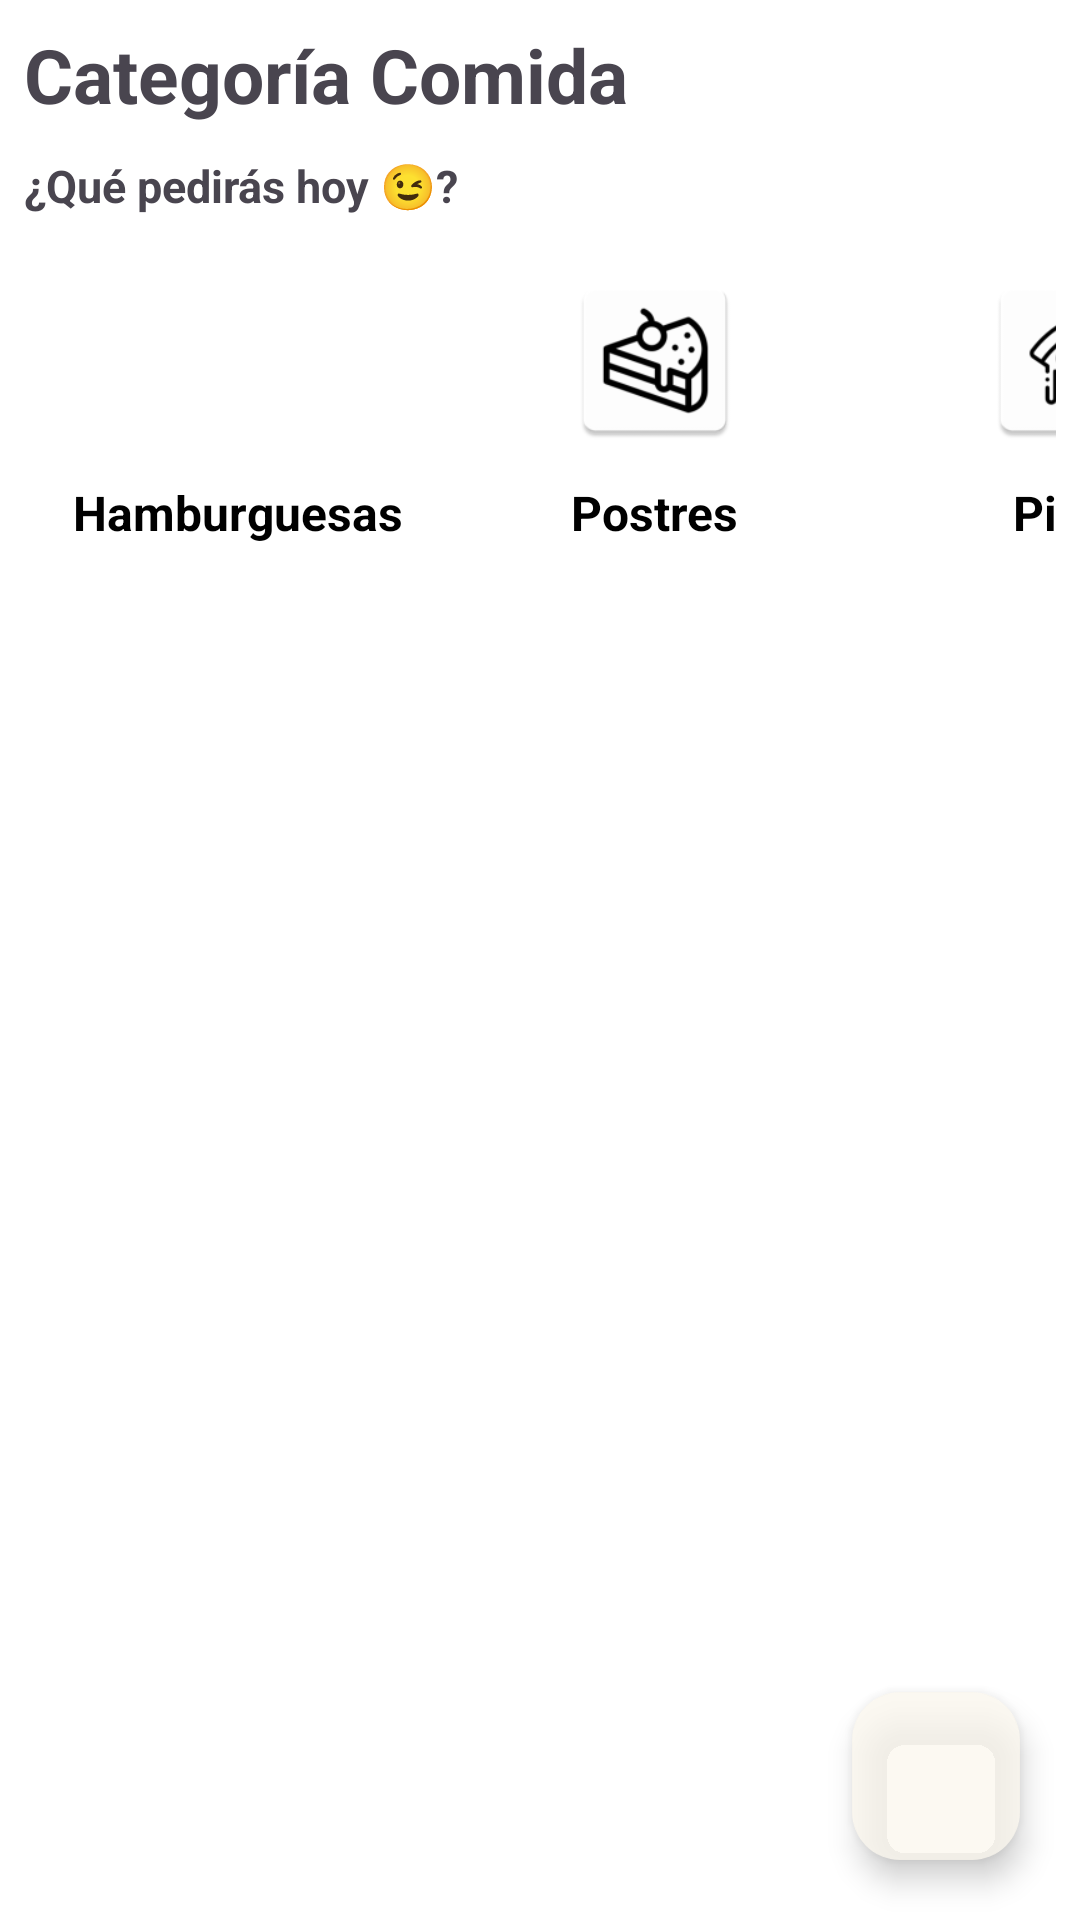

Where icons sit on this 1080x1920 app screen, as (x1, y1, x2, y2):
pastel: (584, 296, 727, 436)
